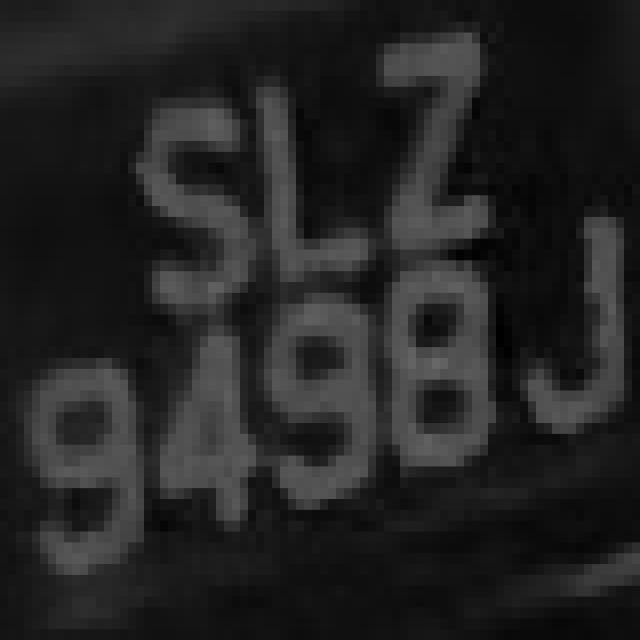4: (120, 293, 272, 575)
8: (376, 217, 520, 488)
9: (16, 326, 136, 629), (256, 260, 368, 564)
J: (504, 217, 632, 466)
L: (248, 65, 376, 293)
S: (112, 65, 240, 315)
Z: (368, 22, 512, 282)
